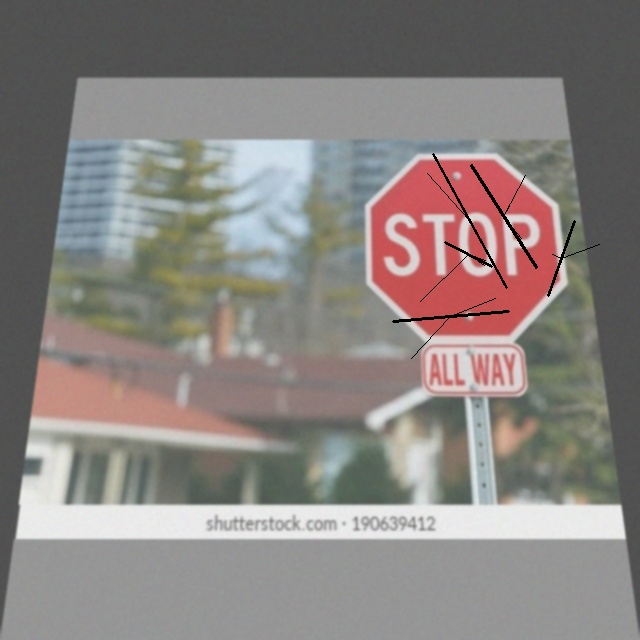Stop: (364, 153, 576, 342)
